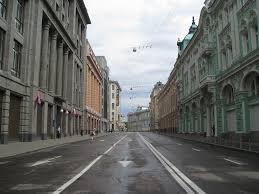strada: (1, 131, 257, 193)
